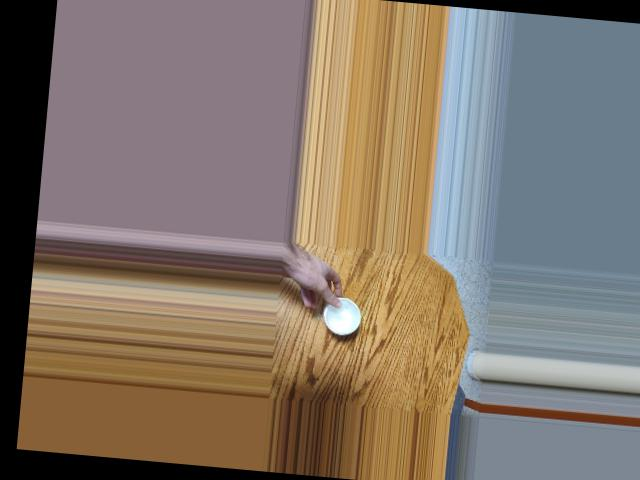cotage: (321, 294, 359, 331)
